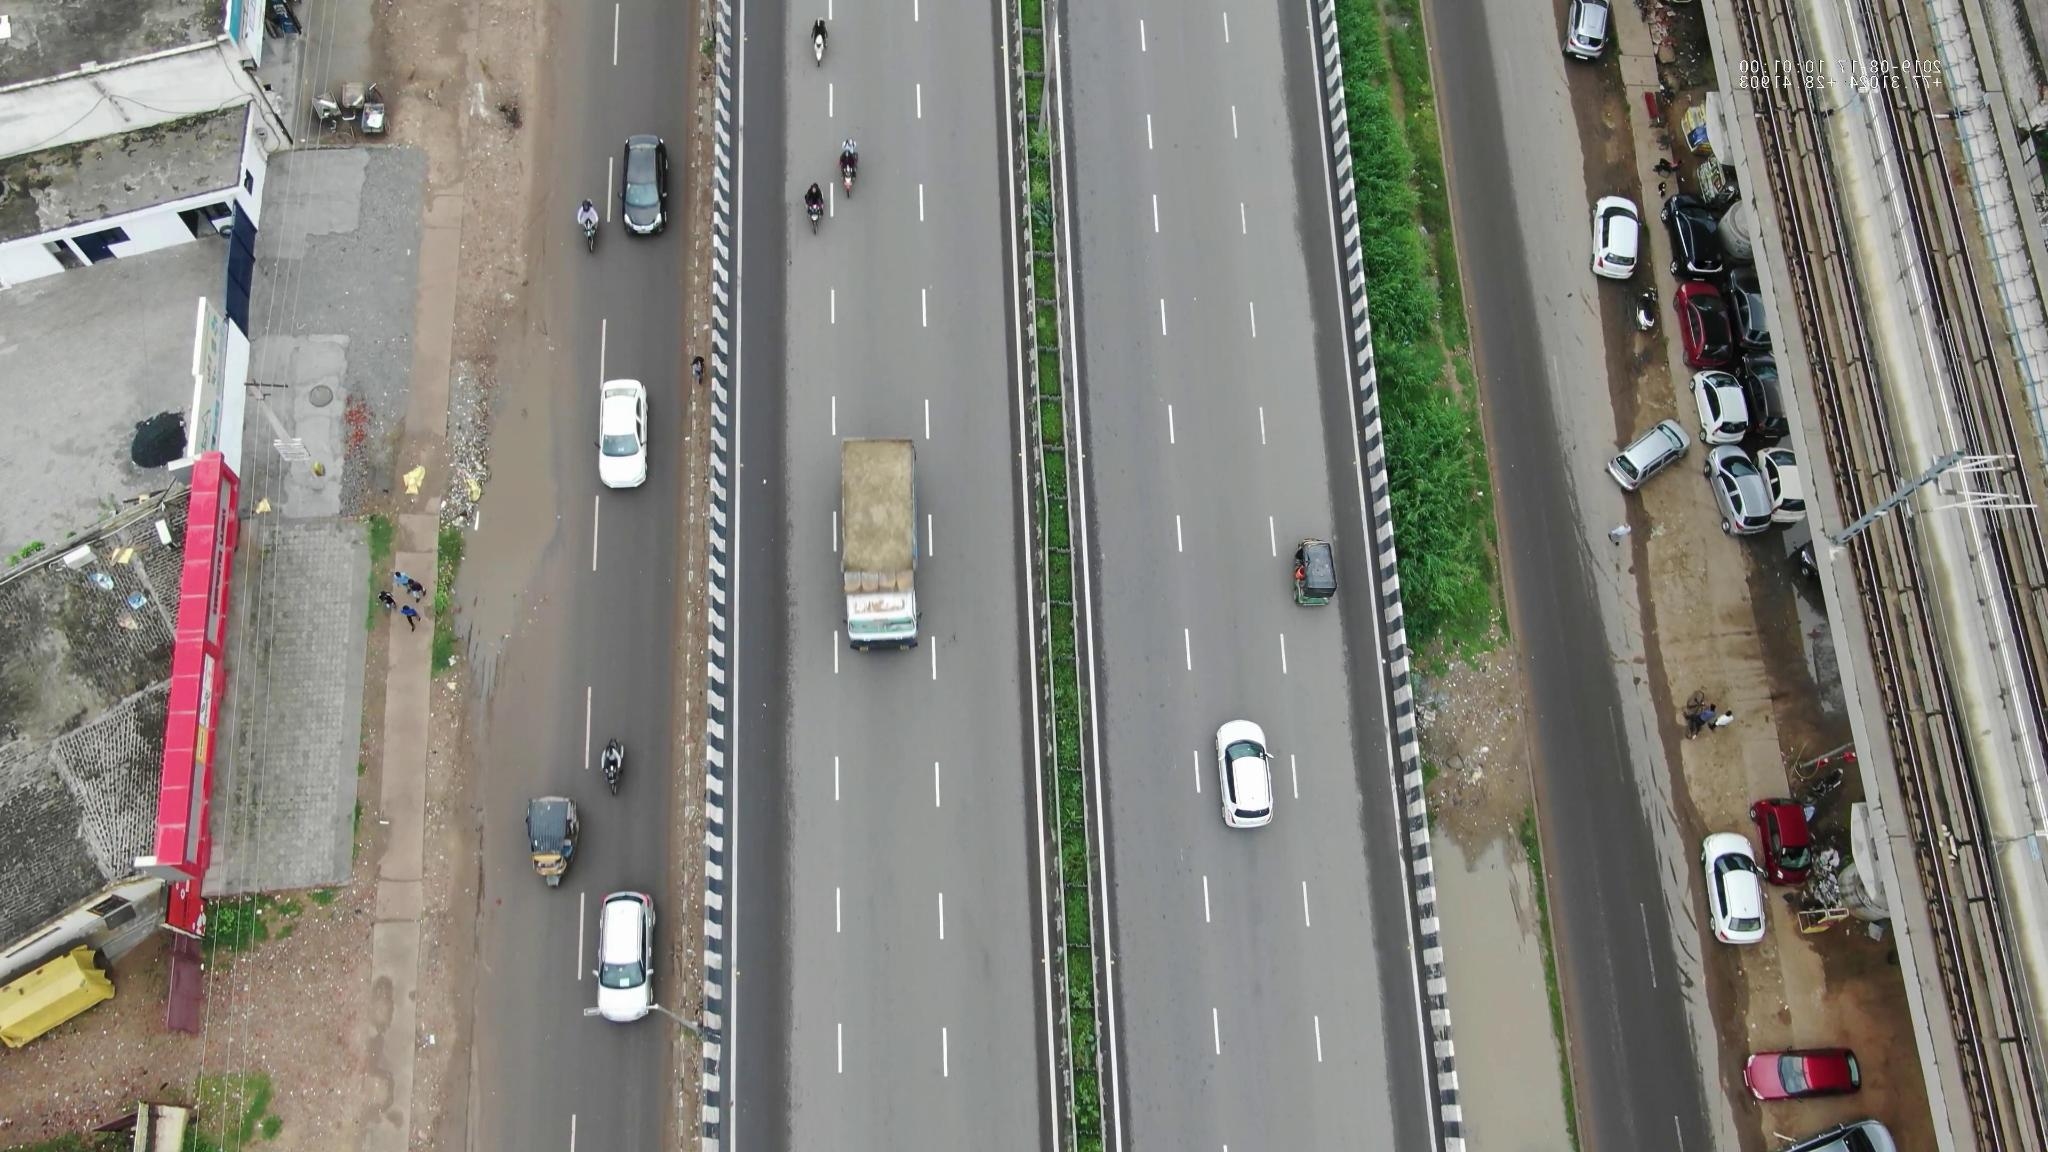Waterlogging: (450, 383, 558, 648)
